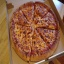pizza: (8, 2, 60, 60)
